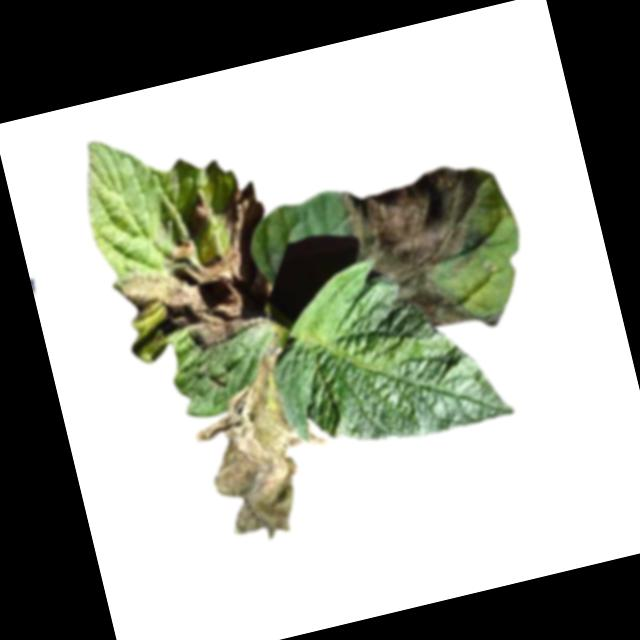Late_blight: (179, 343, 349, 552), (340, 154, 525, 343), (113, 248, 260, 369), (216, 180, 286, 315), (183, 196, 215, 233), (166, 236, 194, 263)
